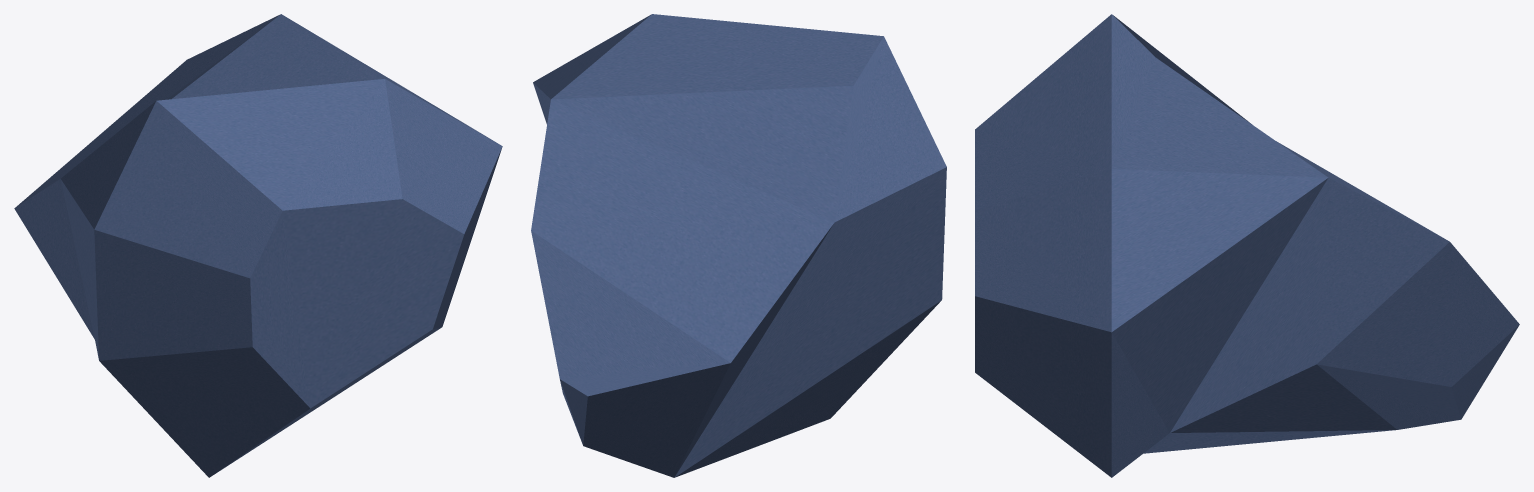
File: blue_rock_1.FBX
3 views of the same model, side by side, from view 1: azimuth 30°, elevation 25°; view 2: azimuth 150°, elevation 25°; view 3: azimuth 270°, elevation 25° (orthographic). The views are drawn at different scales.
Parts seen in each view (by area): view 1: rock_3.004; view 2: rock_3.004; view 3: rock_3.004.
Part boxes in pixels (x1,y1,x2,y2): rock_3.004: (14,14,502,477); rock_3.004: (531,14,946,477); rock_3.004: (975,14,1519,477).
Size of the model in its own units: 312 by 285 by 339.
